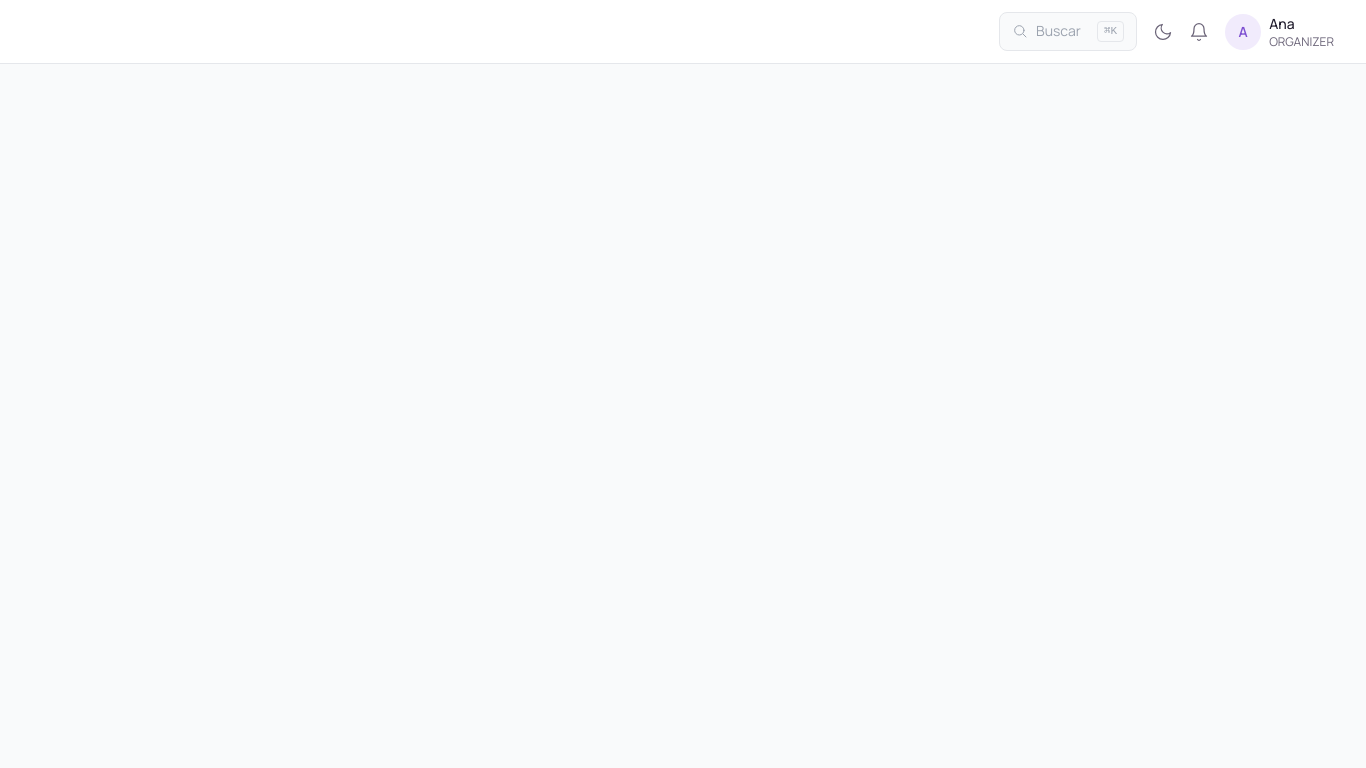
Header › opens the command palette when the search button is clicked
Click the button "Buscar ⌘K". click: coordinates (1068, 31)
box: 999,12 -> 1137,51
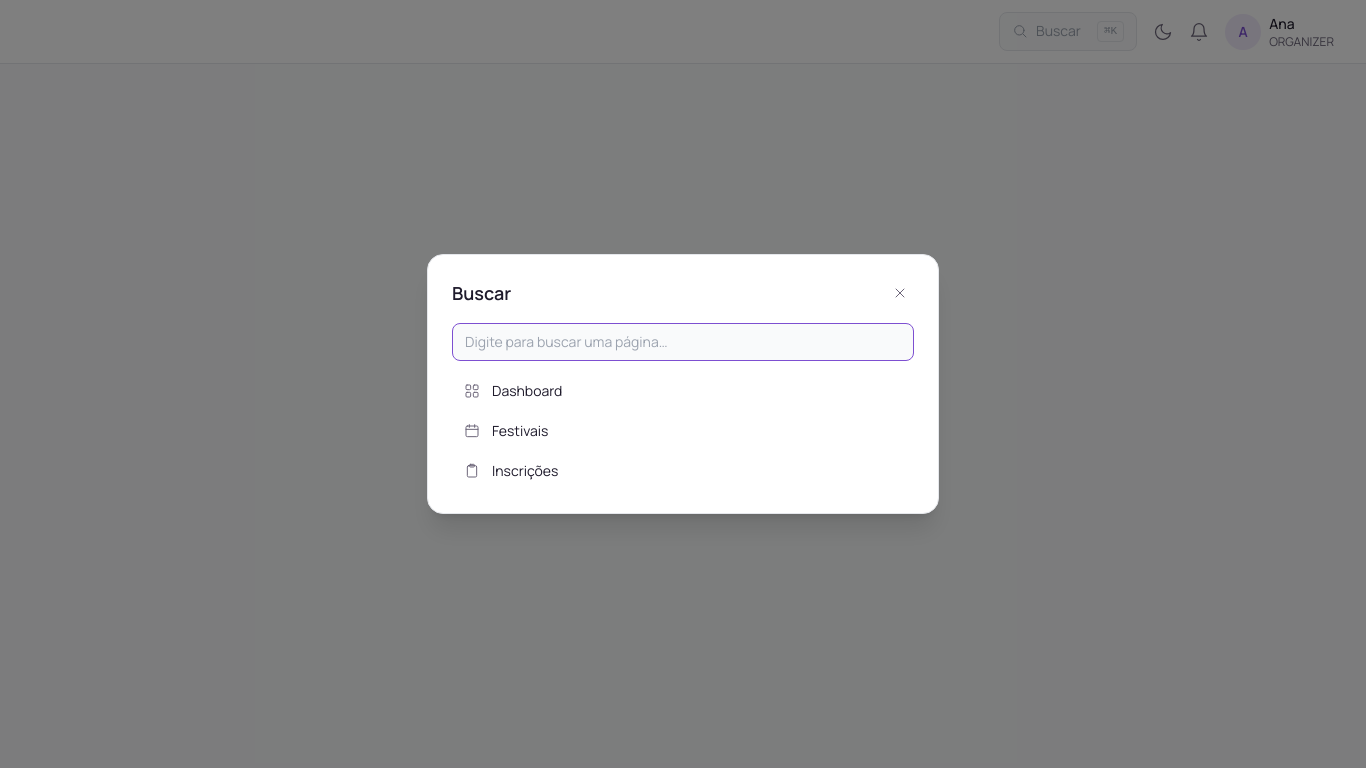
Expected: the dialog is shown, 427,254 -> 939,514
